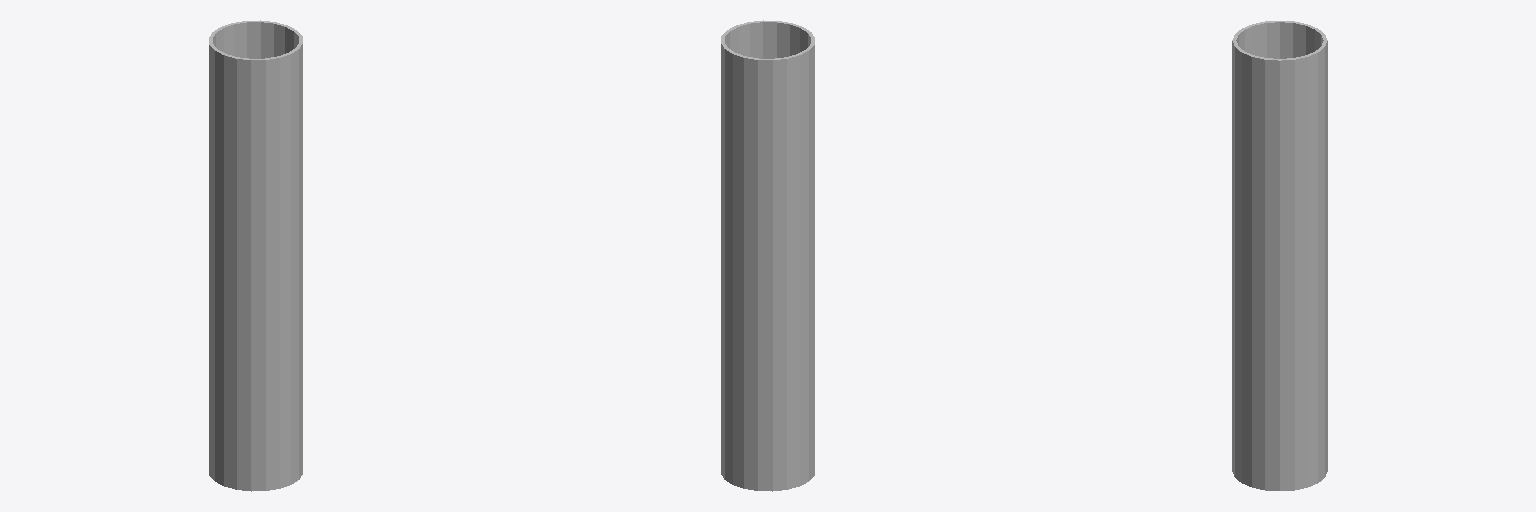
URDF robot description (insert_detect_2):
<?xml version="0.0" ?>
<robot name="insert_detect_2">

  <link name="world"/>

  <link name="insert_detect_2_sig">
    <inertial>
      <mass value="0.8"/>
      <inertia ixx="0.1" ixy="0.0" ixz="0.0" iyy="0.1" iyz="0.0" izz="0.1"/>
    </inertial>

    <visual>
      <origin rpy="0 0 0" xyz="0 0 0"/>
      <geometry>
        <mesh filename="insert_detect_2.stl" scale="0.0012 0.0012 0.0012 "/>
      </geometry>
      <material name="sig">
        <color rgba="0.8 0.8 0.8 1"/>
      </material>
    </visual>

    <collision concave="yes">
      <origin rpy="0 0 0" xyz="0 0 0"/>
      <geometry>
        <mesh filename="insert_detect_2.stl" scale="0.0012 0.0012 0.0012 "/>
      </geometry>
    </collision>
  </link>


  <joint name="connect_root_and_world" type="fixed">
    <child link="insert_detect_2_sig"/>
    <parent link="world"/>
    <origin rpy="0 0 0" xyz="0 0 0"/>
  </joint>

</robot>

--- Facts derived from the render (not from the file) ---
3 views of the same robot in one strip: view 1: azimuth 30°, elevation 25°; view 2: azimuth 150°, elevation 25°; view 3: azimuth 270°, elevation 25° (orthographic).
Robot: insert_detect_2 — 2 links, 1 joints (1 fixed); root link world; default pose: every joint at zero.
Visible links, largest first — view 1: insert_detect_2_sig; view 2: insert_detect_2_sig; view 3: insert_detect_2_sig.
Link boxes in pixels (x1,y1,x2,y2): insert_detect_2_sig: (209, 20, 302, 491); insert_detect_2_sig: (721, 20, 814, 491); insert_detect_2_sig: (1232, 21, 1327, 490).
Bounding box of the posed robot: 0.0144 × 0.0144 × 0.072 m (x, y, z).
Meshes: 1 distinct files referenced, 1 mesh visuals loaded (1 binary STL).